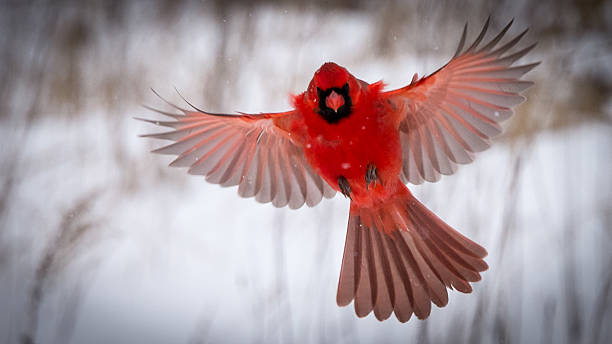Bird: (132, 13, 547, 325)
